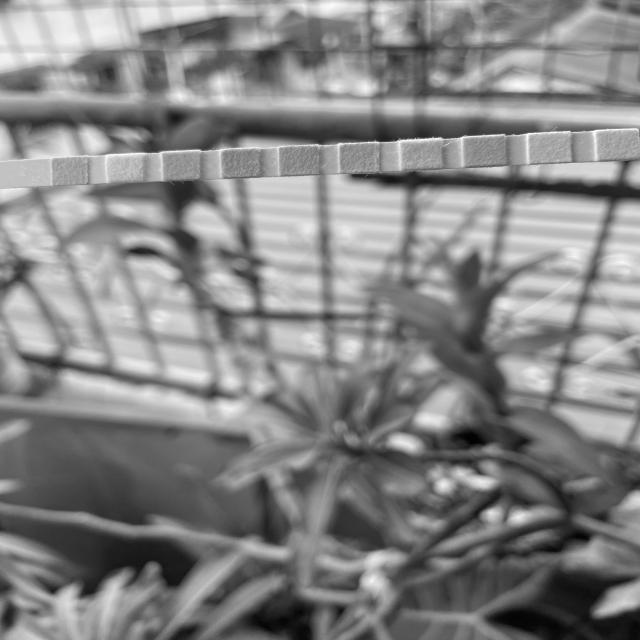Bilirubin: (109, 156, 142, 182)
Blood: (281, 148, 318, 174)
Glucose: (53, 159, 87, 183)
Ketone: (164, 153, 199, 179)
Leukocytes: (598, 131, 640, 159)
Nitrite: (528, 134, 571, 162)
Protein: (401, 141, 441, 169)
SpGravity: (223, 150, 259, 176)
Urobilinogen: (464, 137, 506, 165)
background: (0, 0, 640, 640)
pH: (341, 145, 379, 172)
strip: (0, 129, 640, 189)
